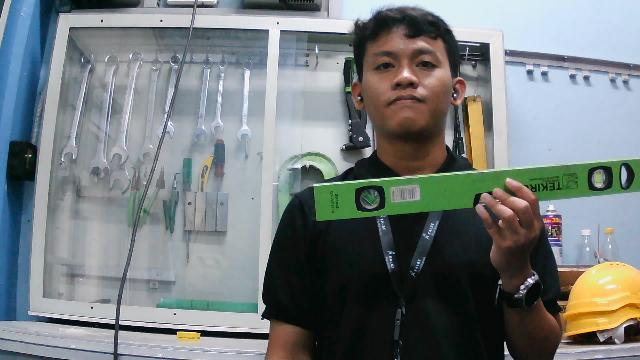water_pass: (304, 155, 640, 224)
